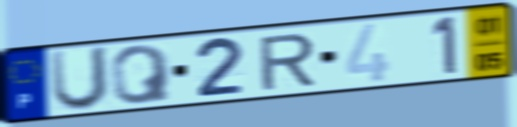1: (429, 14, 463, 78)
2: (192, 34, 250, 100)
4: (343, 22, 394, 84)
Q: (109, 42, 174, 107)
R: (256, 31, 318, 93)
U: (47, 43, 113, 113)
